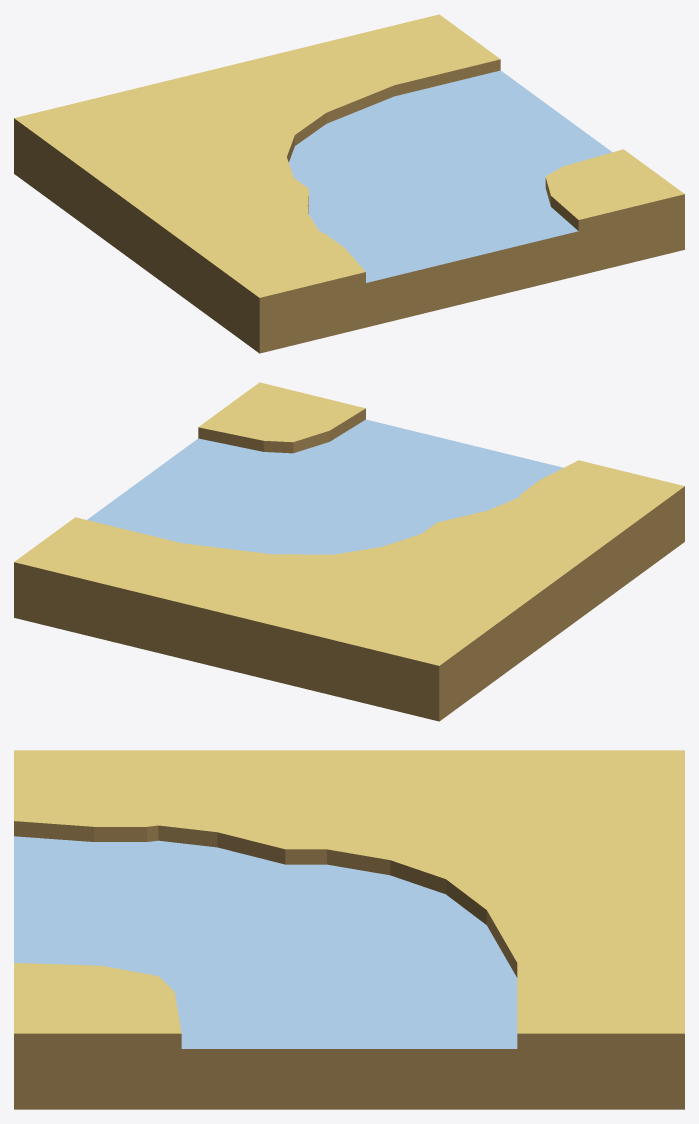
File: Terrain_Tile_Sand_River_Bend_03.fbx
3 views of the same model, one above another, from view 1: azimuth 30°, elevation 25°; view 2: azimuth 150°, elevation 25°; view 3: azimuth 270°, elevation 25° (orthographic). The views are drawn at different scales.
Visible parts, largest first — view 1: Terrain_Tile_Sand_River_Bend_03; view 2: Terrain_Tile_Sand_River_Bend_03; view 3: Terrain_Tile_Sand_River_Bend_03.
Part boxes in pixels (<box>): Terrain_Tile_Sand_River_Bend_03: <box>14,14,684,353</box>; Terrain_Tile_Sand_River_Bend_03: <box>14,382,684,721</box>; Terrain_Tile_Sand_River_Bend_03: <box>14,750,684,1109</box>.
Bounding box in the file's own units: 126 × 15.75 × 126.
